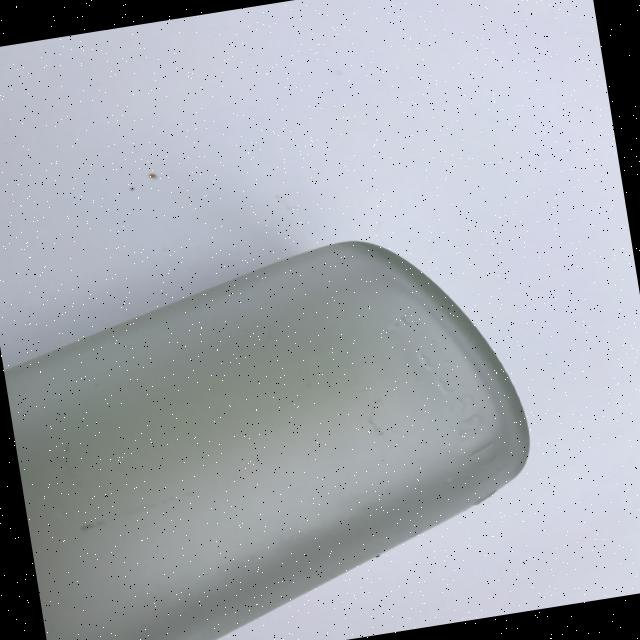glass: (0, 216, 558, 640)
